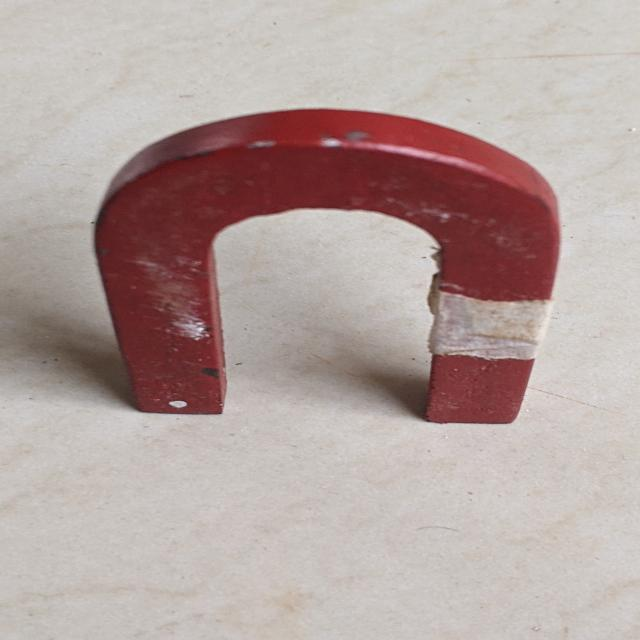Magnet: (76, 95, 587, 441)
